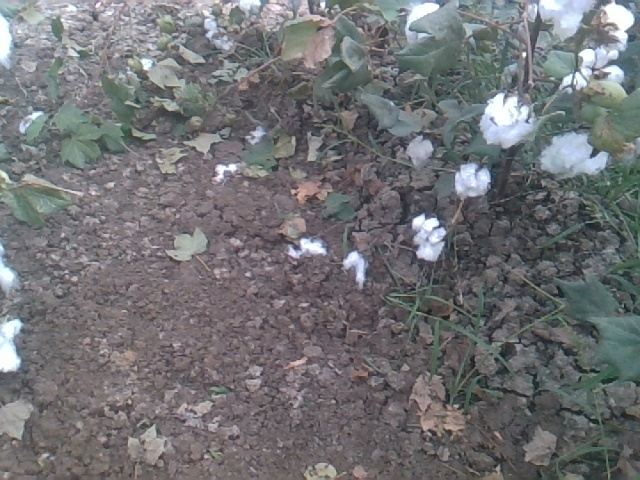cotton: (558, 47, 629, 106), (540, 131, 610, 180), (480, 92, 536, 151), (538, 1, 599, 41), (592, 1, 635, 56), (410, 212, 449, 263), (404, 3, 442, 49), (454, 161, 493, 200), (1, 317, 25, 374), (1, 240, 21, 299), (405, 134, 433, 172), (1, 7, 16, 77), (237, 1, 263, 17)
